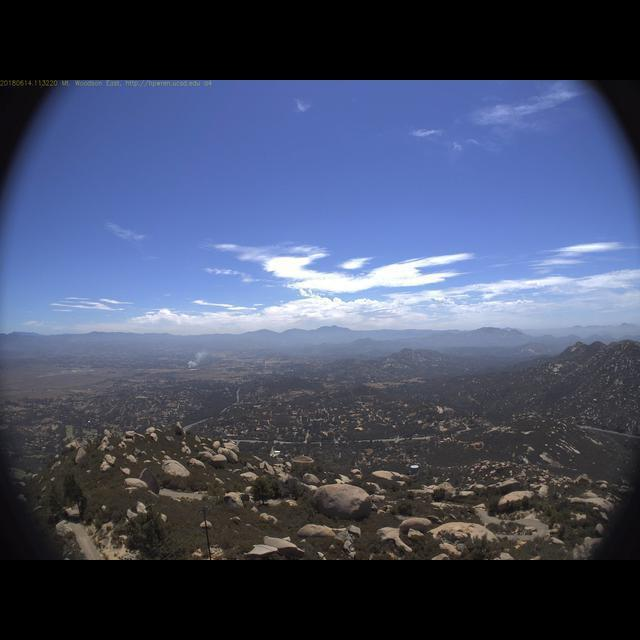Smoke: (184, 347, 218, 365)
